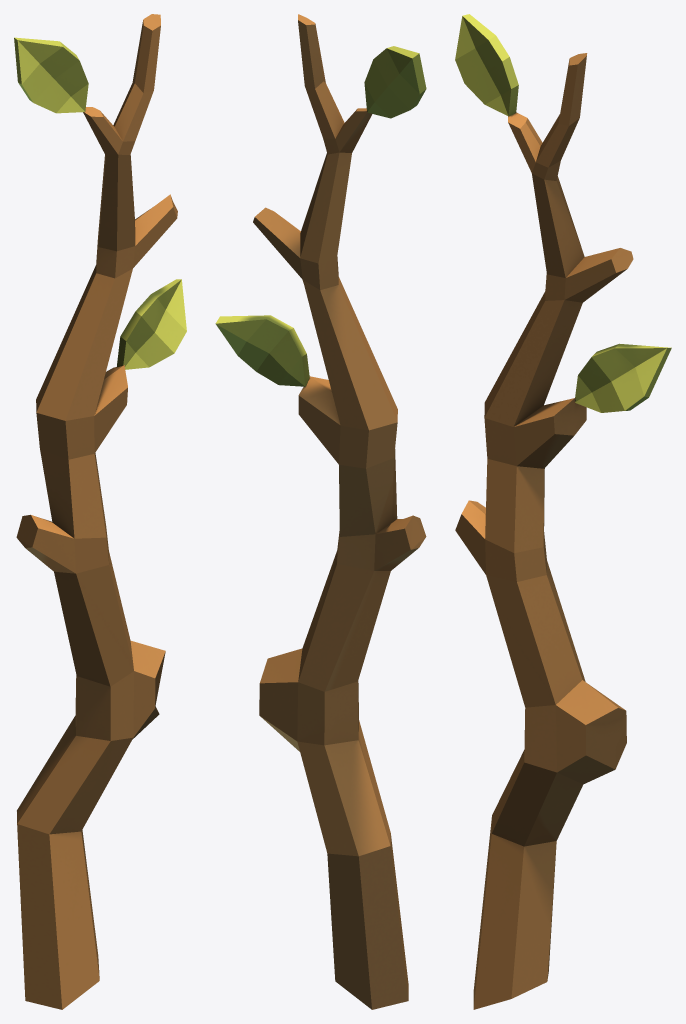
The model's file is Tree branch.glb.
3 renders of one model, left to right at view 1: azimuth 30°, elevation 25°; view 2: azimuth 150°, elevation 25°; view 3: azimuth 330°, elevation 25°, orthographic. The views are drawn at different scales.
Parts seen in each view (by area): view 1: Tree_branch; view 2: Tree_branch; view 3: Tree_branch.
Boxes of the visible parts, <box> form: Tree_branch: <box>14,14,186,1009</box>; Tree_branch: <box>215,14,426,1009</box>; Tree_branch: <box>455,14,671,1009</box>.
Bounding box in the file's own units: 0.5237 × 2.61 × 0.2453.
1 material, 1 textured.
